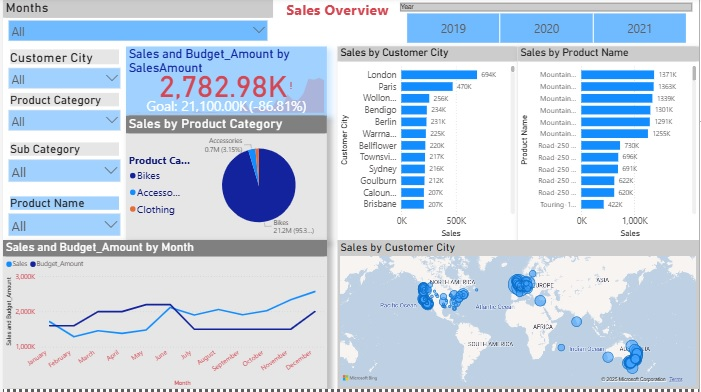

The page's visual inventory and layout, read from the dashboard file:
{"tool":"powerbi","page":{"name":"1.Sales Overview","canvas":[1280,720],"ordinal":0},"visuals":[{"type":"textbox","box":[515.9,0,226.2,69],"z":0},{"type":"slicer","title":"Months","fields":{"Values":["Dim_Date_Excel.Month"]},"box":[0,5.5,496.6,85.5],"z":1},{"type":"slicer","fields":{"Values":["Dim_Date_Excel.Year"]},"box":[717.2,5.5,562.8,85.5],"z":2},{"type":"slicer","fields":{"Values":["DIM_Customer.Customer City"]},"box":[0,91,226.2,80],"z":3},{"type":"slicer","fields":{"Values":["DIM_Products.Product Category"]},"box":[0,171,226.2,91],"z":4},{"type":"slicer","fields":{"Values":["DIM_Products.Sub Category"]},"box":[0,262.1,226.2,88.3],"z":5},{"type":"slicer","fields":{"Values":["DIM_Products.Product Name"]},"box":[0,361.4,226.2,85.5],"z":6},{"type":"kpi","fields":{"Indicator":["Key_Measure (2).Sales"],"Goal":["Key_Measure (2).Budget_Amount"],"TrendLine":["FactInternetSale.SalesAmount"]},"box":[226.2,91,369.7,126.9],"z":7},{"type":"pieChart","fields":{"Category":["DIM_Products.Product Category"],"Y":["Key_Measure (2).Sales"]},"box":[226.2,217.9,369.7,229],"z":8},{"type":"lineChart","fields":{"Y":["Key_Measure (2).Sales","Key_Measure (2).Budget_Amount"],"Category":["Dim_Date_Excel.Month"]},"box":[0,446.9,595.9,273.1],"z":9},{"type":"barChart","fields":{"Category":["DIM_Customer.Customer City"],"Y":["Key_Measure (2).Sales"]},"box":[615.2,91,331,355.9],"z":10},{"type":"barChart","fields":{"Category":["DIM_Products.Product Name"],"Y":["Key_Measure (2).Sales"]},"box":[946.2,91,333.8,355.9],"z":11},{"type":"map","fields":{"Category":["DIM_Customer.Customer City"],"Size":["Key_Measure (2).Sales"]},"box":[615.2,446.9,664.8,273.1],"z":12}]}

Visuals, with their boxes in screenshot pixels (x1, y1, x2, y2), scaled from the page's 1280x720 canvas onto the 701x392 screenshot:
textbox: select_region(283, 0, 406, 38)
"Months" slicer: select_region(0, 3, 272, 50)
slicer - Dim_Date_Excel.Year: select_region(393, 3, 700, 50)
slicer - DIM_Customer.Customer City: select_region(0, 50, 124, 93)
slicer - DIM_Products.Product Category: select_region(0, 93, 124, 143)
slicer - DIM_Products.Sub Category: select_region(0, 143, 124, 191)
slicer - DIM_Products.Product Name: select_region(0, 197, 124, 243)
kpi - Key_Measure (2).Sales x Key_Measure (2).Budget_Amount: select_region(124, 50, 326, 119)
pieChart - DIM_Products.Product Category x Key_Measure (2).Sales: select_region(124, 119, 326, 243)
lineChart - Key_Measure (2).Sales x Key_Measure (2).Budget_Amount: select_region(0, 243, 326, 391)
barChart - DIM_Customer.Customer City x Key_Measure (2).Sales: select_region(337, 50, 518, 243)
barChart - DIM_Products.Product Name x Key_Measure (2).Sales: select_region(518, 50, 700, 243)
map - DIM_Customer.Customer City x Key_Measure (2).Sales: select_region(337, 243, 700, 391)
